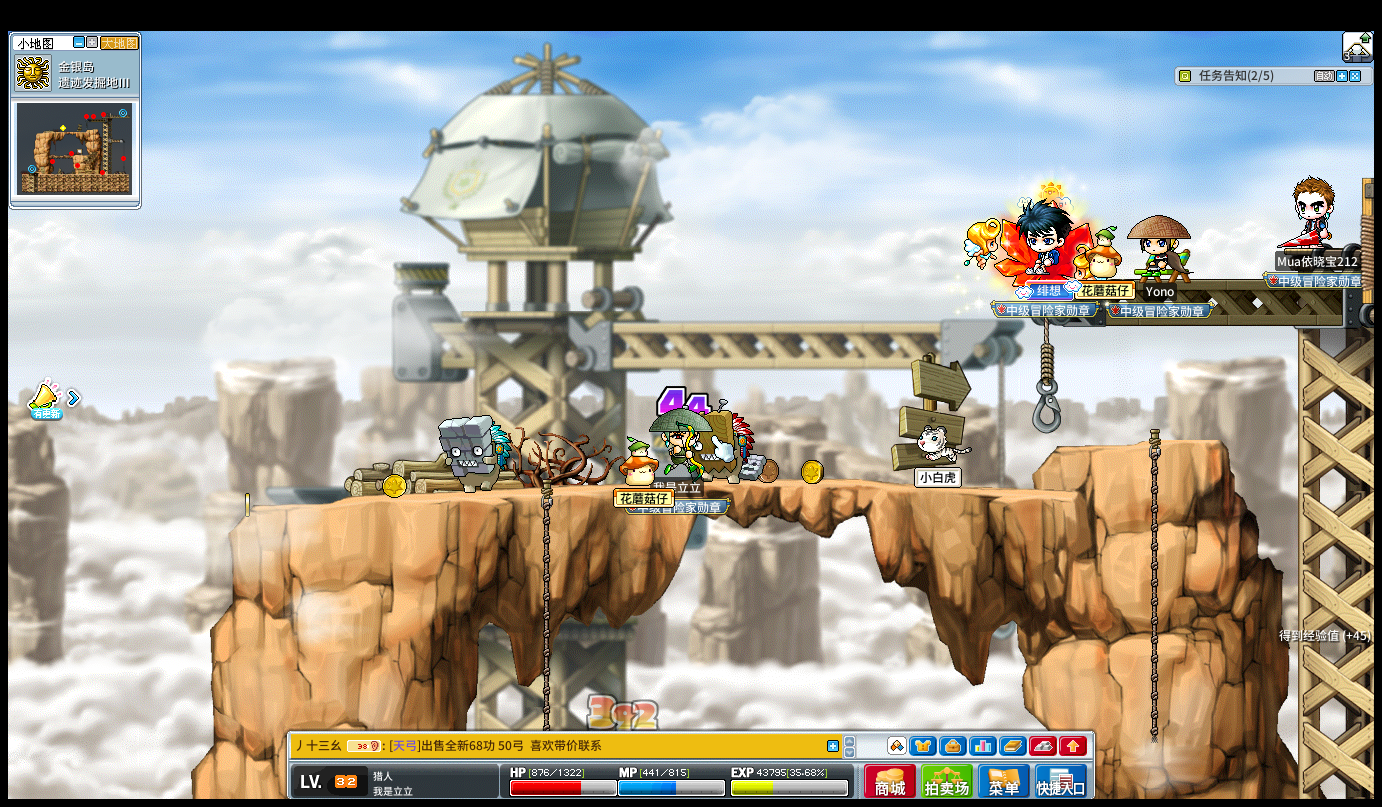floor: (240, 473, 1132, 504), (1055, 434, 1224, 450), (1054, 437, 1227, 452)
monster: (436, 415, 510, 495), (693, 404, 755, 483)
rope: (1145, 424, 1161, 749), (539, 474, 552, 682)
